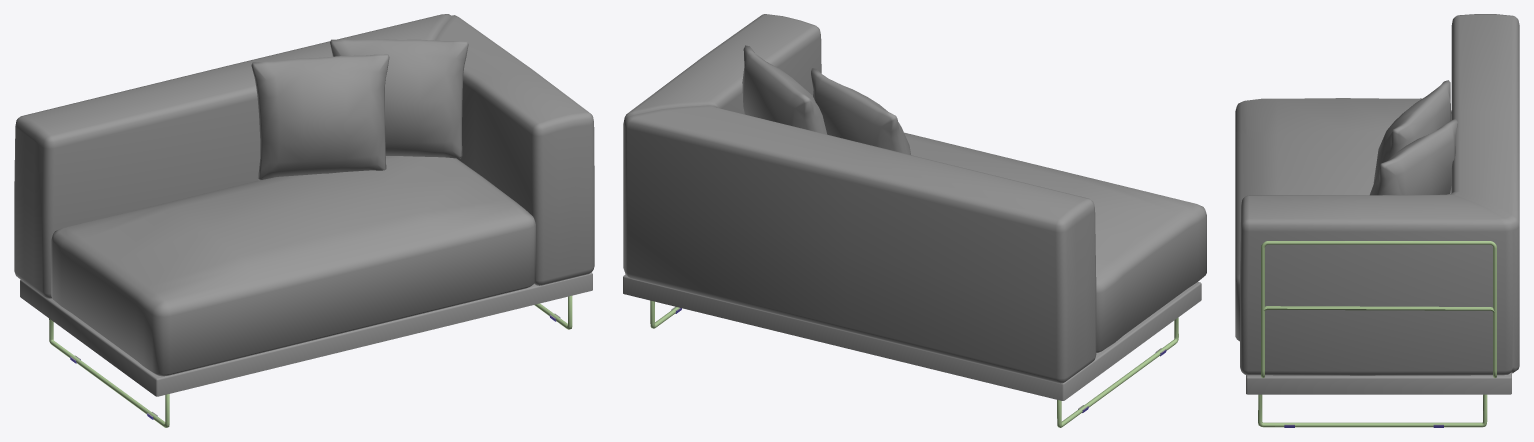
The model's file is TylosandLoveseatWith1Armrest.FBX.
3 renders of one model, left to right at view 1: azimuth 30°, elevation 25°; view 2: azimuth 150°, elevation 25°; view 3: azimuth 270°, elevation 25°, orthographic. The views are drawn at different scales.
Visible parts, largest first — view 1: TylosandLoveseatWith1Armrest; view 2: TylosandLoveseatWith1Armrest; view 3: TylosandLoveseatWith1Armrest.
Part boxes in pixels (x1=…): TylosandLoveseatWith1Armrest: x1=14, y1=14, x2=594, y2=427; TylosandLoveseatWith1Armrest: x1=623, y1=14, x2=1206, y2=427; TylosandLoveseatWith1Armrest: x1=1235, y1=14, x2=1519, y2=427.
Size of the model in its own units: 160 by 91 by 86.17.
